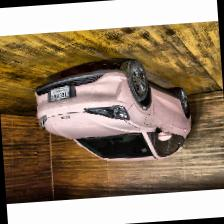EV: (31, 55, 196, 171)
